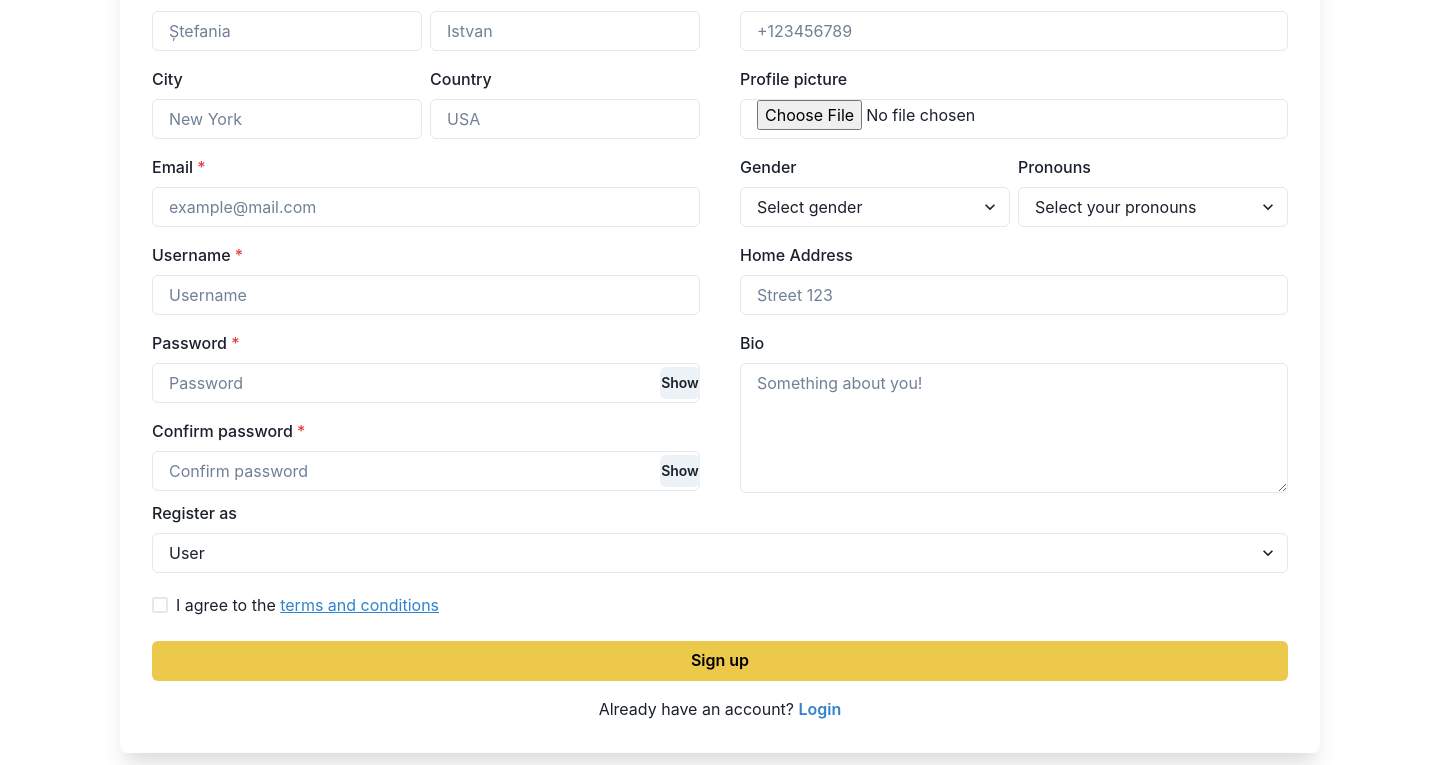
Test: SignupCard › should display validation errors for empty required fields on signup attempt
The width and height of the screenshot is (1440, 765).
(page scrolled)
What coordinates should you click on to do the following:
click the button "Sign up"
I would click on:
 (720, 661)
Its box is [152,641,1288,681].
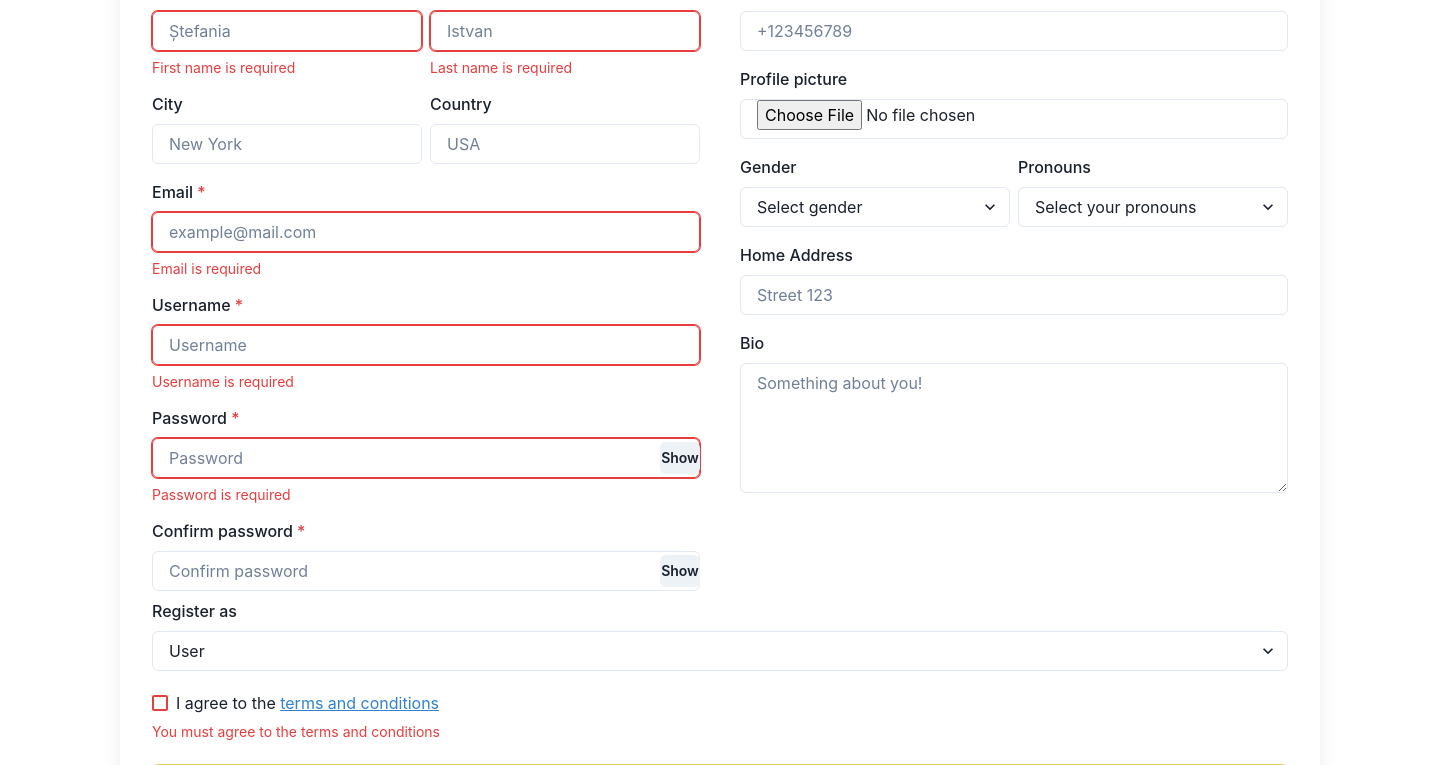
Now the text "First name is required" is shown, box [152,59,295,76]
Now the text "Last name is required" is shown, box [430,59,572,76]
Now the text "Username is required" is shown, box [152,373,294,390]
